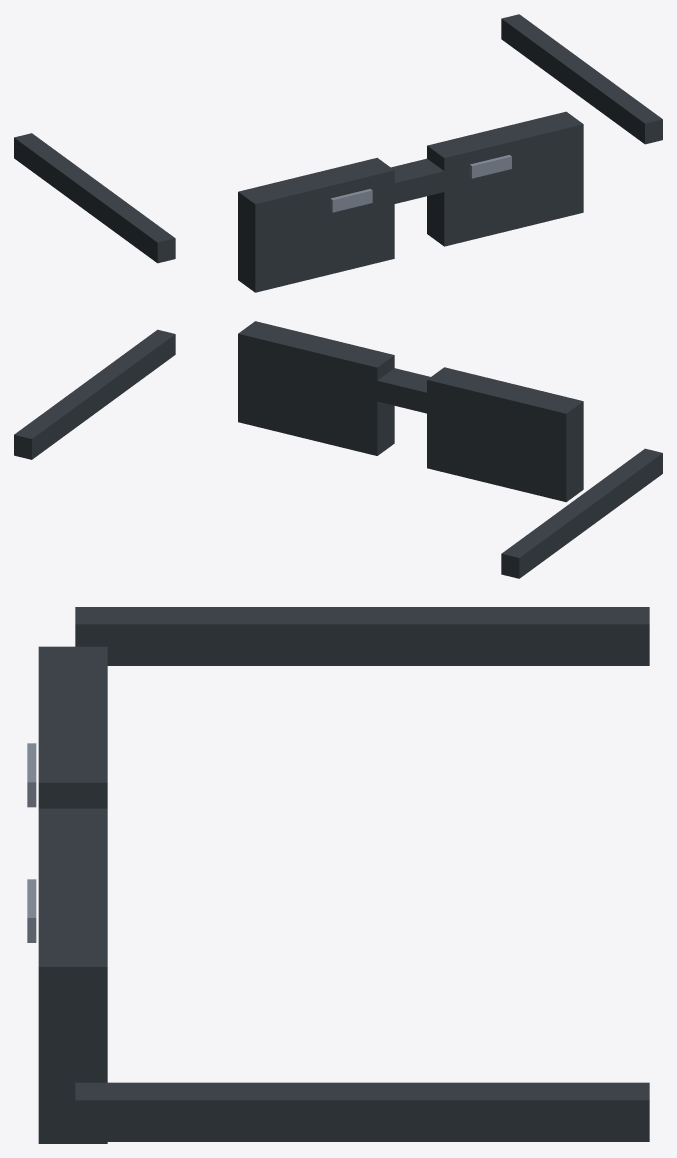
The model's file is av_acc_sunglasses.glb.
3 renders of one model, top to bottom at view 1: azimuth 30°, elevation 25°; view 2: azimuth 150°, elevation 25°; view 3: azimuth 270°, elevation 25°, orthographic. The views are drawn at different scales.
Bounding box in the file's own units: 0.508 × 0.085 × 0.271.
